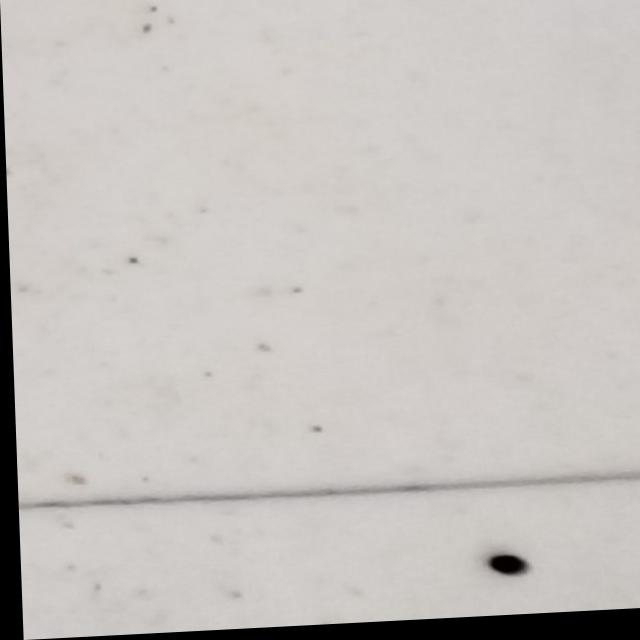varroa: (480, 557, 530, 586)
